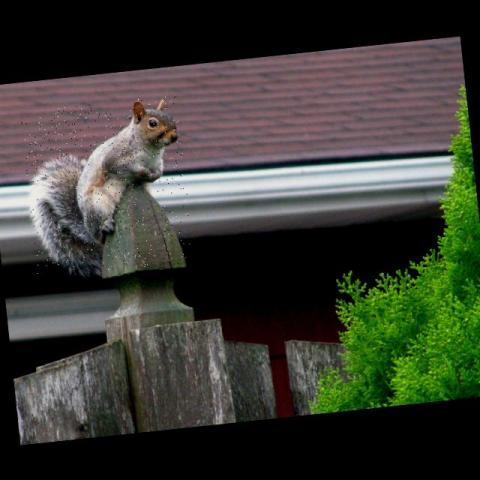small_animal: (27, 97, 182, 278)
